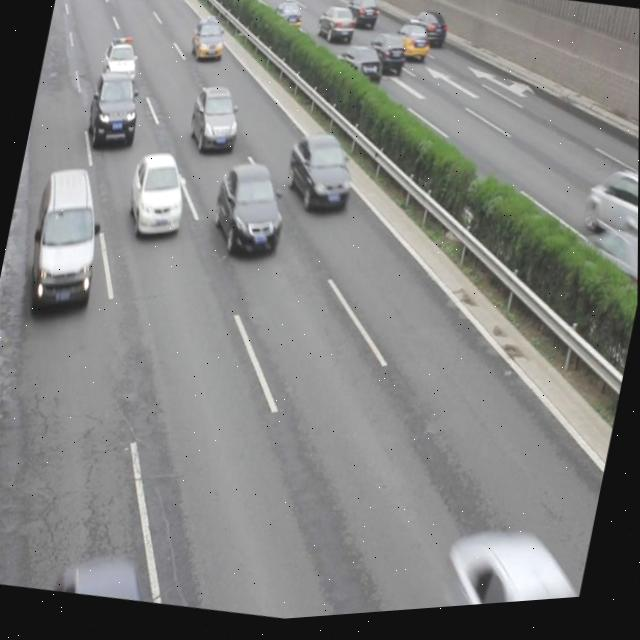car: (207, 158, 293, 269), (282, 128, 361, 225), (124, 150, 193, 249), (569, 226, 638, 320), (84, 66, 147, 156), (580, 169, 639, 256), (185, 83, 247, 162), (330, 45, 386, 99), (98, 35, 143, 92), (361, 34, 408, 84), (386, 23, 433, 72), (188, 16, 230, 70), (406, 11, 450, 60), (315, 5, 358, 52), (263, 0, 306, 41), (342, 0, 382, 41)
truck: (21, 160, 114, 320)
